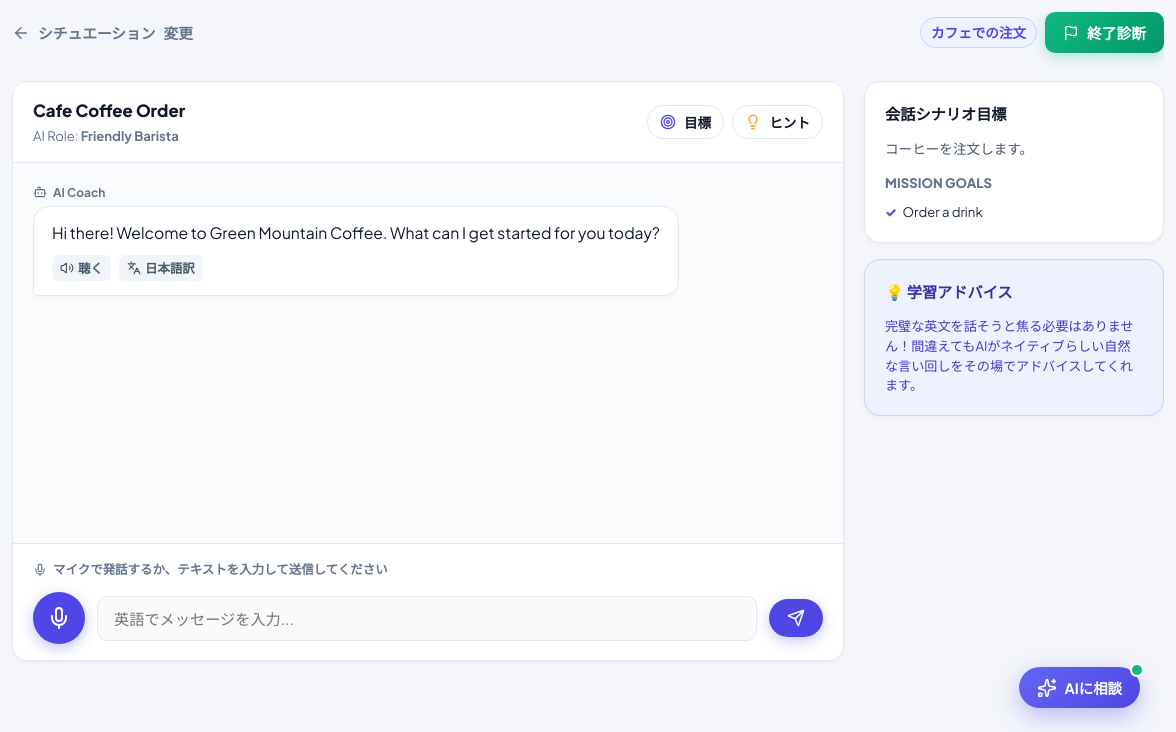
Test case: ChatRoom component › toggles floating AI coach assistant from FAB and does not show duplicate header button
The width and height of the screenshot is (1176, 732).
# Click FAB to open floating panel
Click the button with aria-label "AIコーチに質問する": {"x": 1079, "y": 688} [1019,667,1140,708]
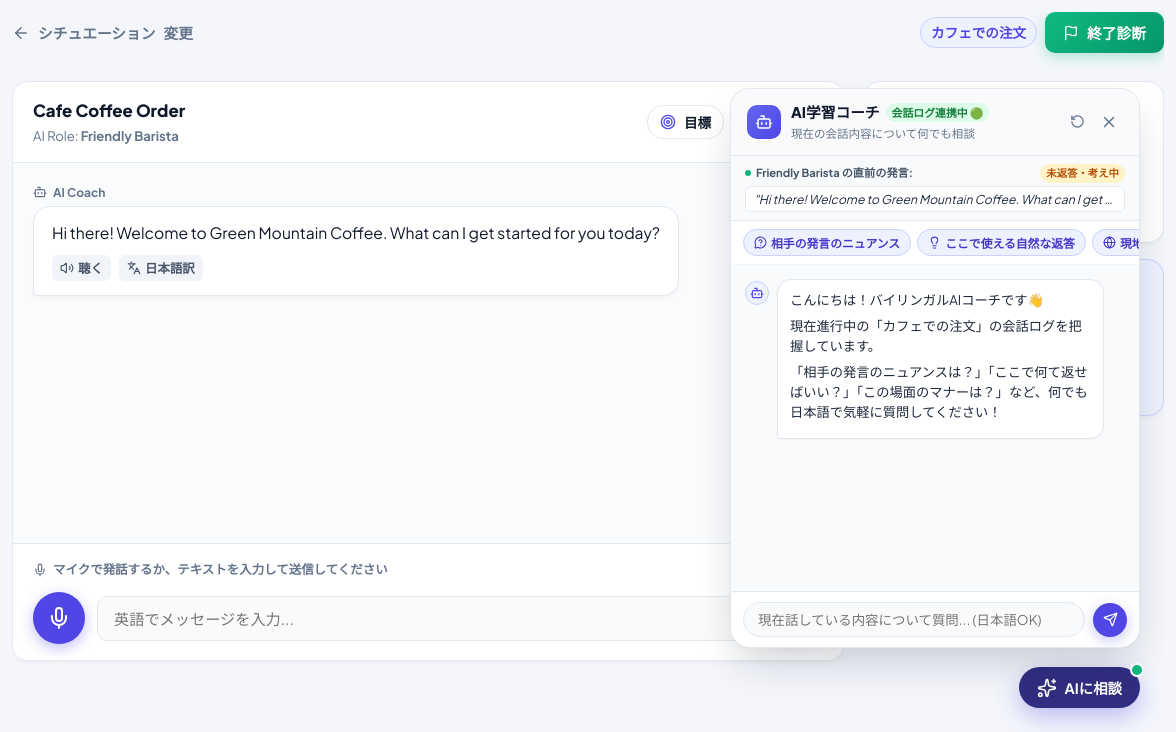
Expected: the text "AI学習コーチ" is shown, [791,103,880,121]
Expected: the text "現在の会話内容について何でも相談" is shown, [791,124,989,143]
# Close button
Click the button named "閉じる": {"x": 1109, "y": 122} [1095,108,1123,136]
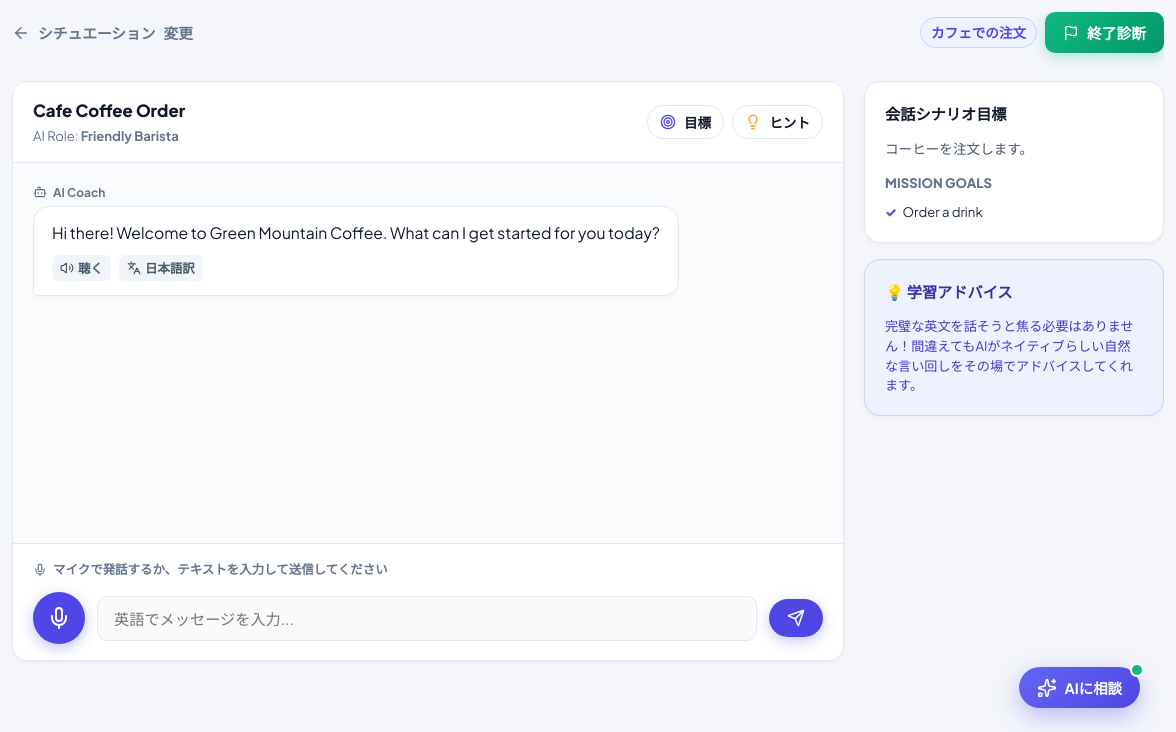
Expected: the text "AI学習コーチ" is gone
